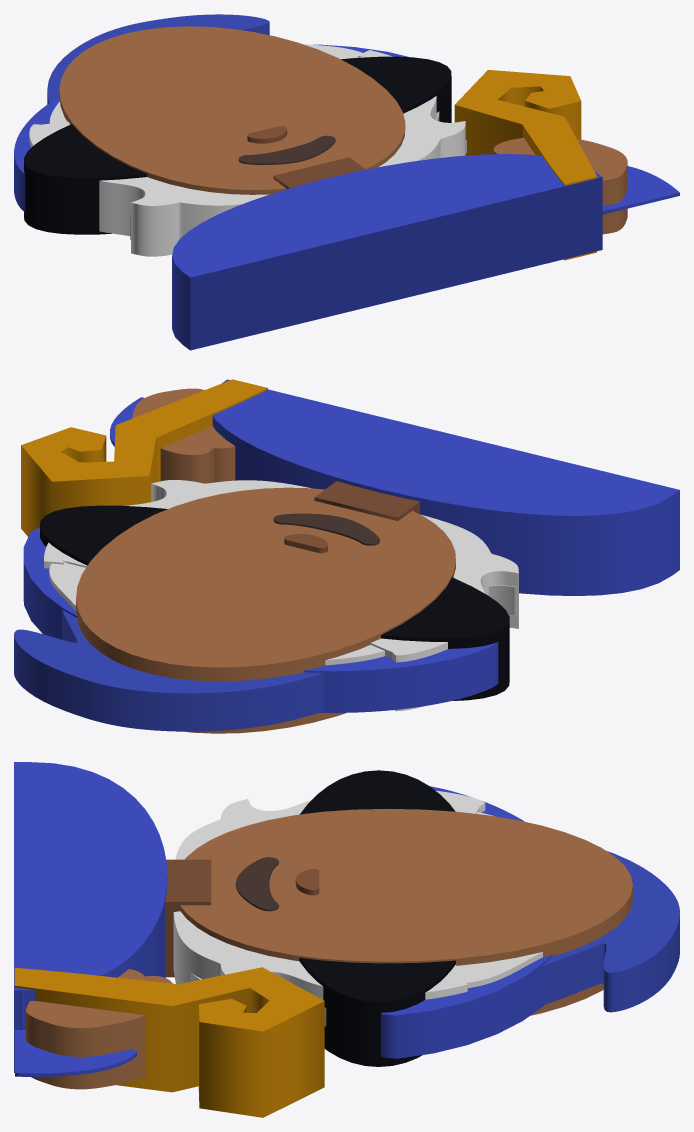
Rendered from emoji_u1f9d9_1f3fe.glb.
3 renders of one model, top to bottom at view 1: azimuth 30°, elevation 25°; view 2: azimuth 150°, elevation 25°; view 3: azimuth 270°, elevation 25°, orthographic. The views are drawn at different scales.
Parts seen in each view (by area): view 1: emoji_u1f9d9_1f3fe; view 2: emoji_u1f9d9_1f3fe; view 3: emoji_u1f9d9_1f3fe.
Part boxes in pixels (box(x1,y1,x2,y2)): emoji_u1f9d9_1f3fe: box(14, 14, 679, 350); emoji_u1f9d9_1f3fe: box(14, 379, 679, 733); emoji_u1f9d9_1f3fe: box(14, 762, 679, 1117).
Bounding box in the file's own units: 0.0325 × 0.0048 × 0.0336.
